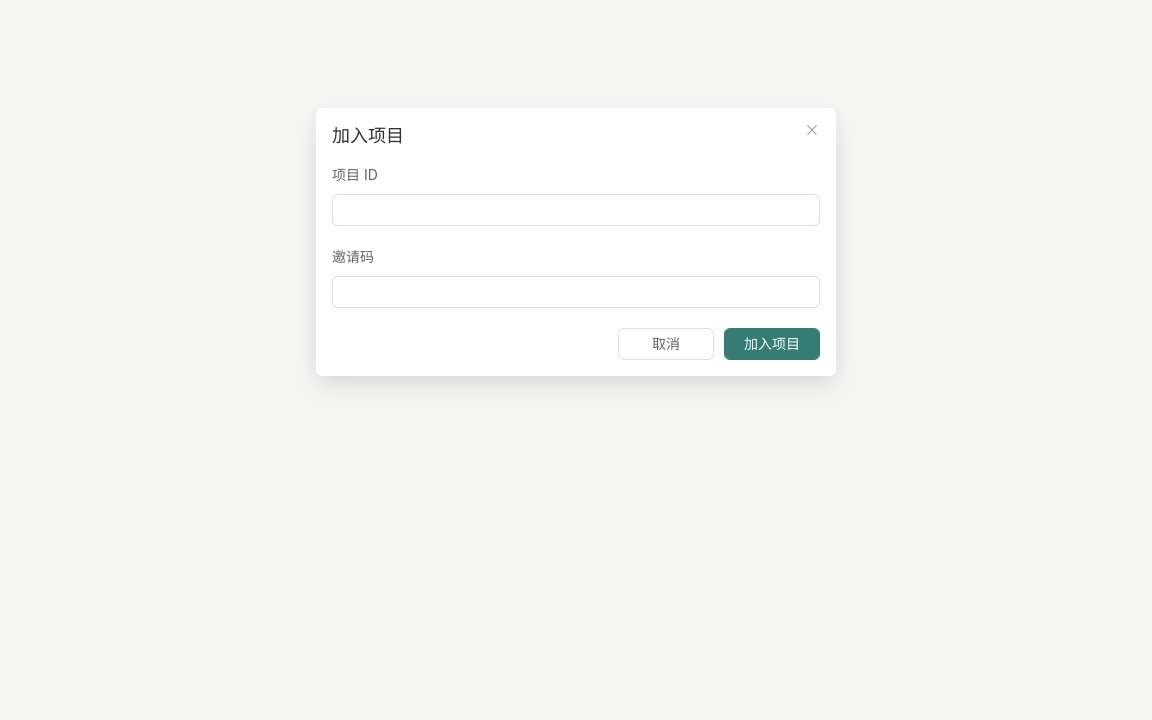
ProjectDialog › rejects a project id above Number.MAX_SAFE_INTEGER and focuses it
The image size is (1152, 720).
Type "JOIN73" into the field named "invite_code" at [576, 292], box [343,277,809,307]
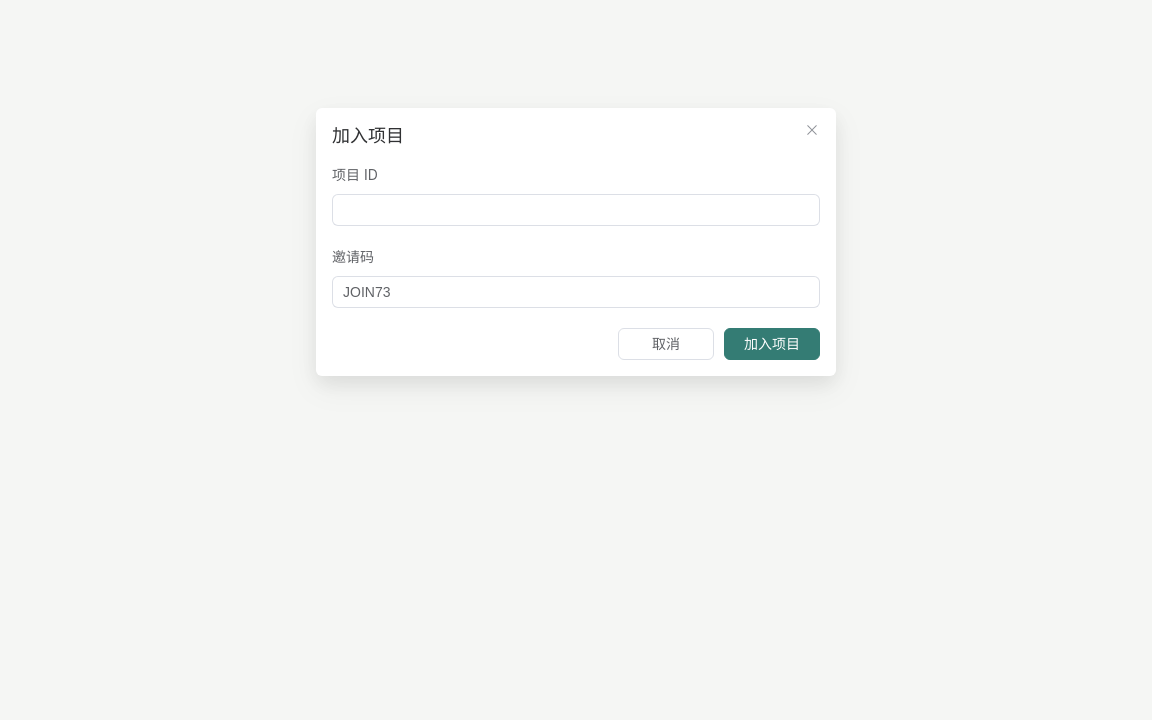
Type "9007199254740992" into the number field named "projectId" at [576, 210], box [347,195,805,225]
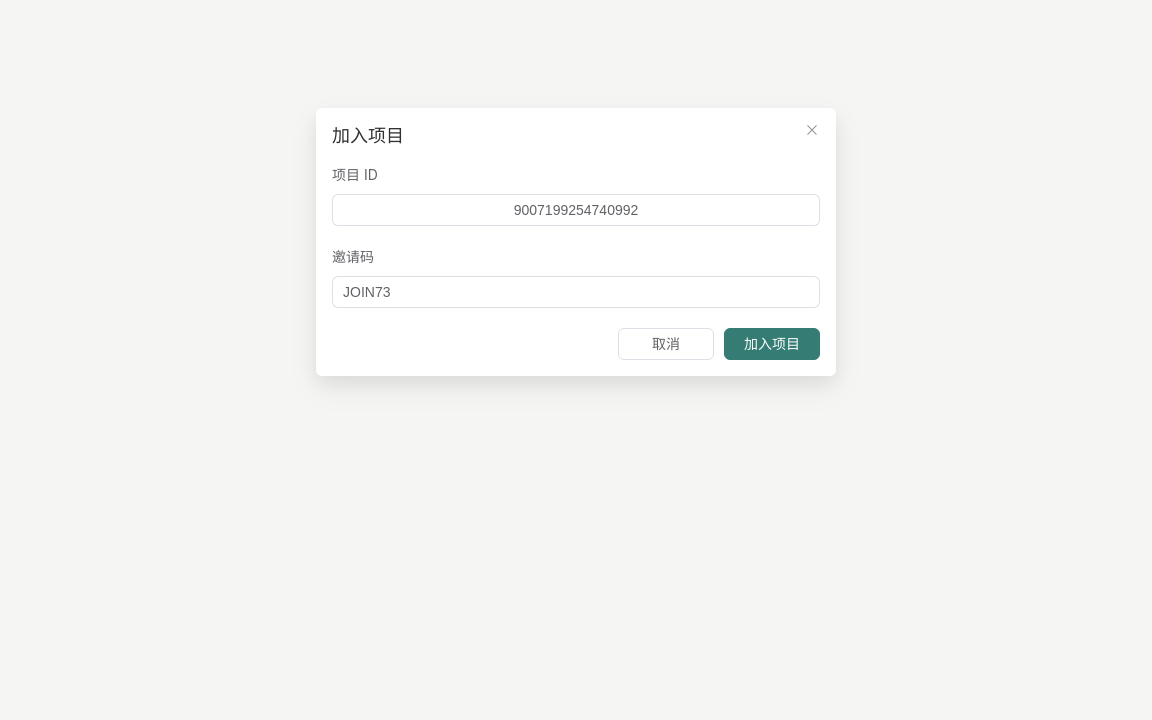
Submit the form, box [332,164,820,360]
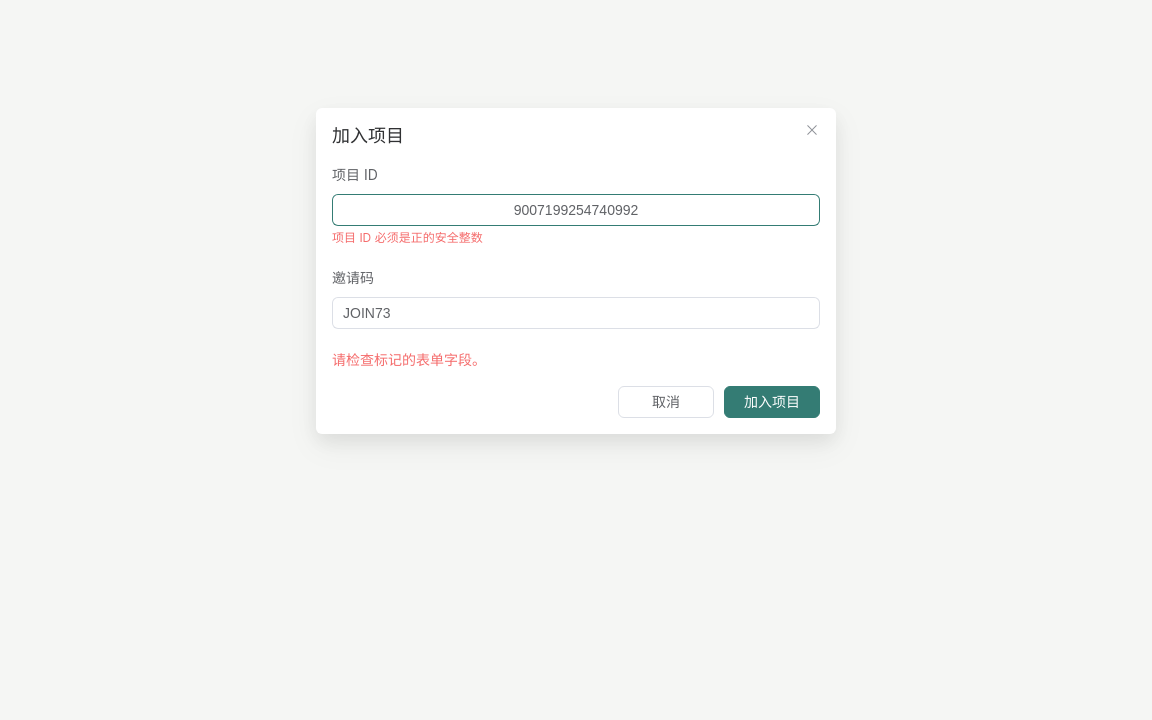
Now the message "项目 ID 必须是正的安全整数" is shown, box [332,230,483,245]
